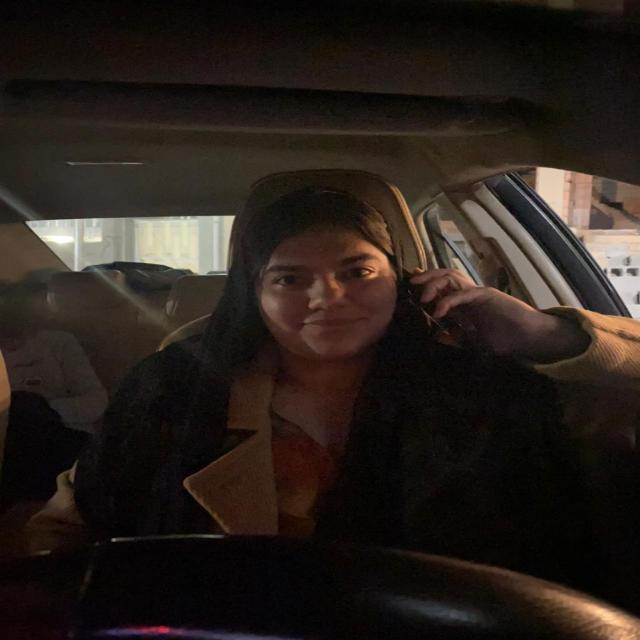mobile: (408, 275, 498, 370)
person: (238, 192, 402, 367)
